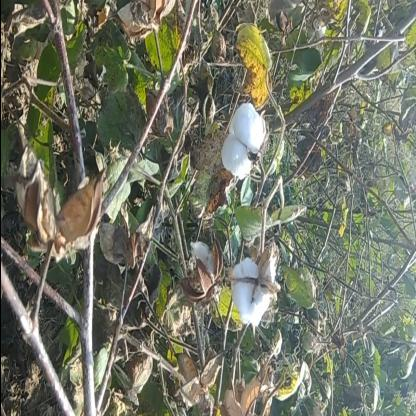cotton_ready: (211, 96, 274, 193), (226, 254, 288, 332)
